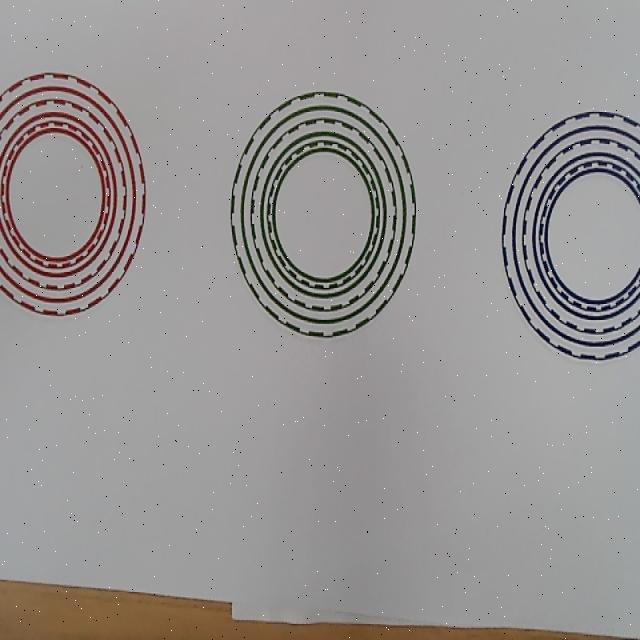g: (230, 90, 418, 340)
